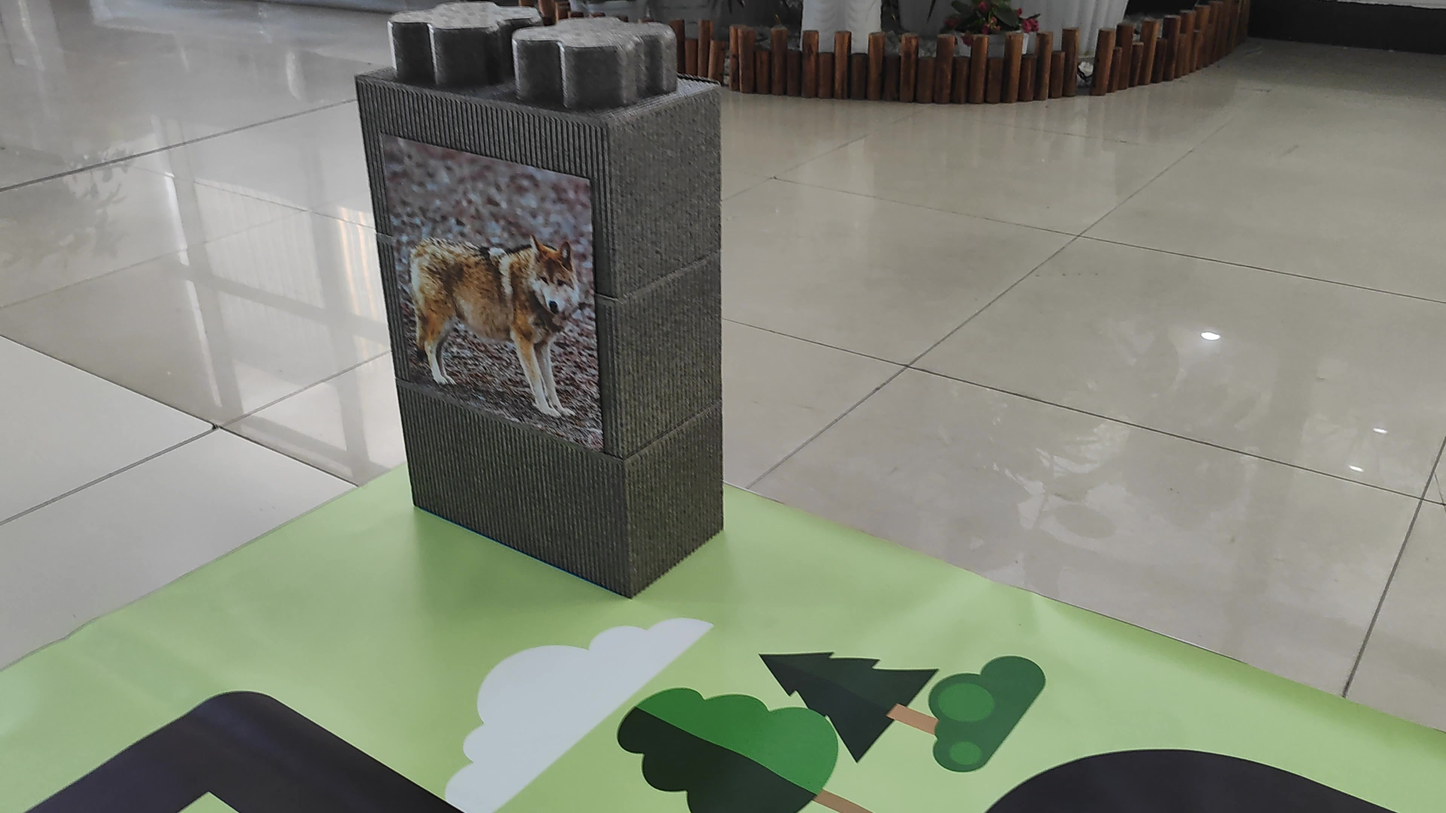wolf: (393, 213, 610, 434)
